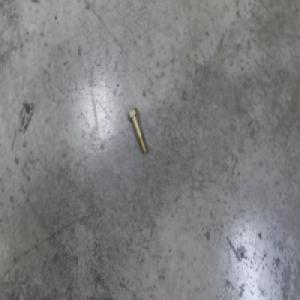Bolt: (127, 106, 147, 154)
